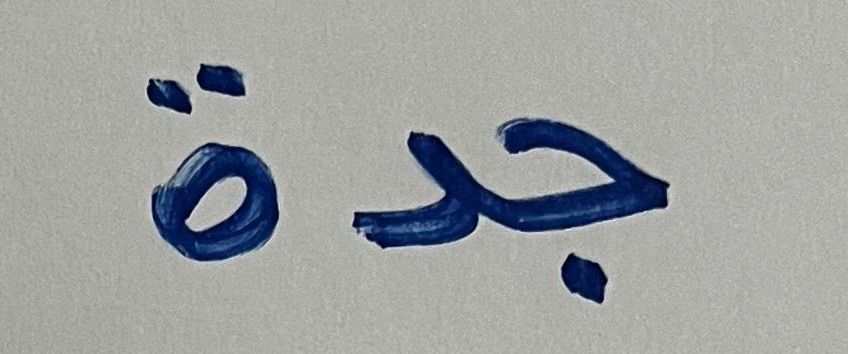dal: (337, 107, 477, 295)
jeem: (480, 73, 687, 313)
teh_marbota: (121, 38, 319, 298)
